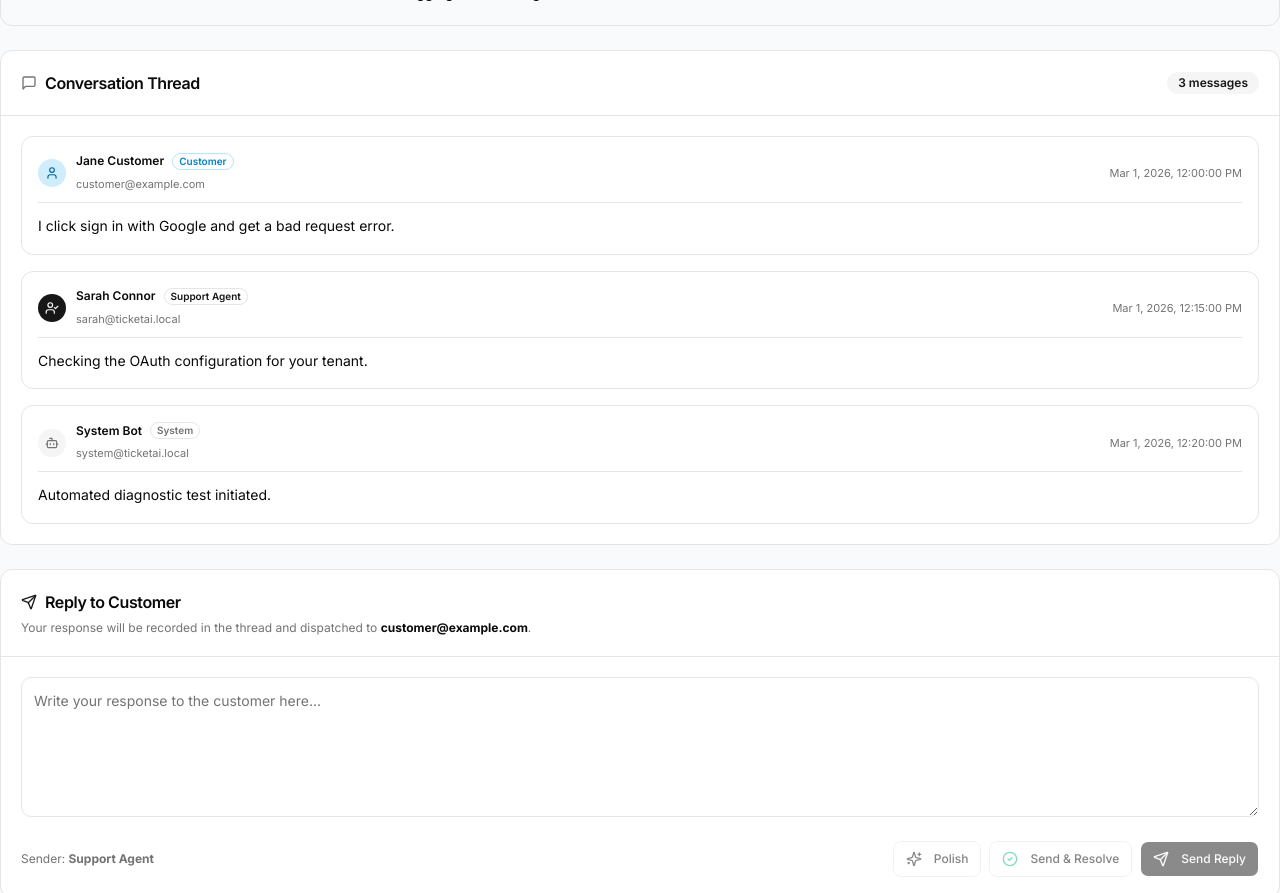
it: ConversationThread Component Tests › 3. Reply Composer & Interactions › displays error alert when sending reply fails and preserves draft
(page scrolled)
Type "My drafted answer" into the text box with placeholder "Write your response to the customer here...". click: coordinates (640, 747)
box: [21,677,1259,817]
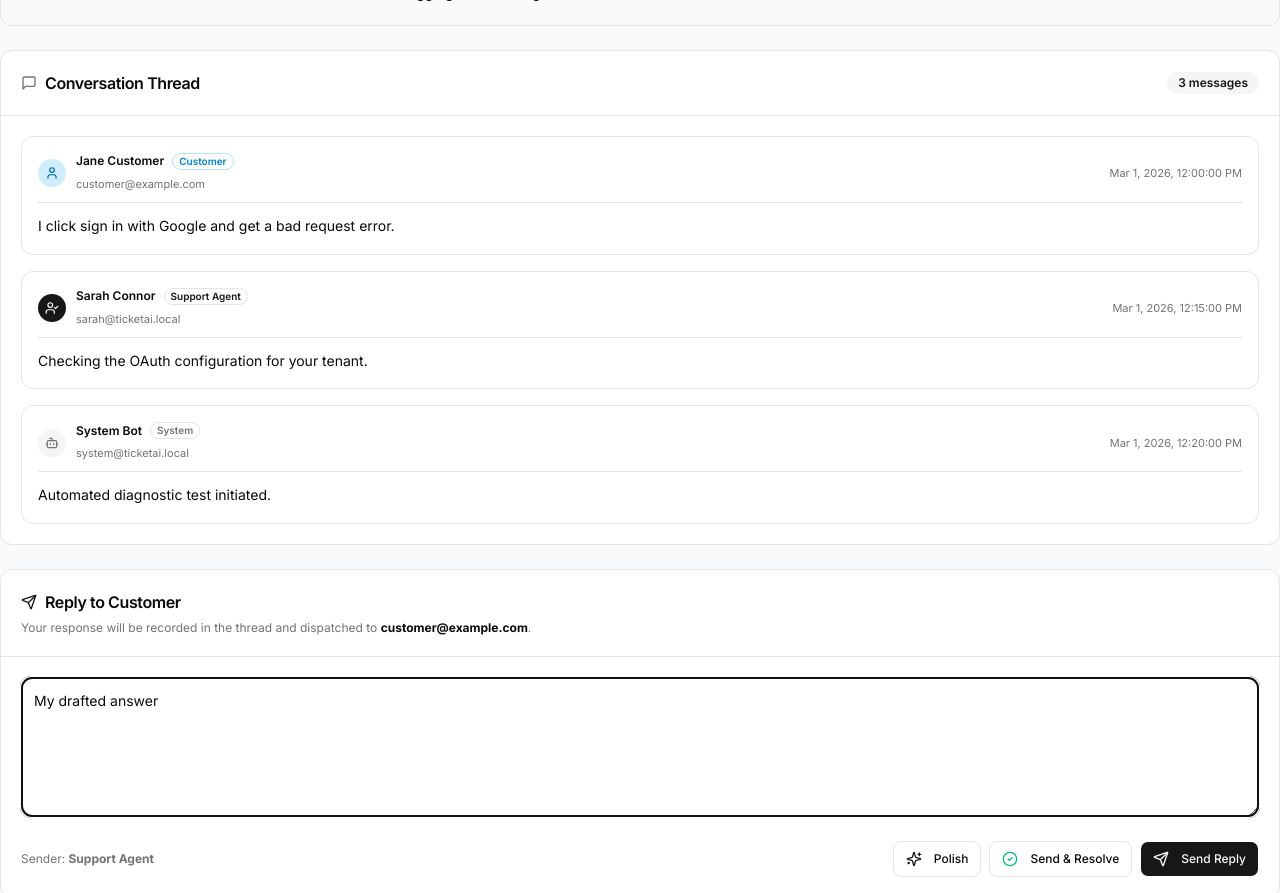
Click the button "Send Reply". click: coordinates (1200, 859)
box: [1140,841,1259,877]
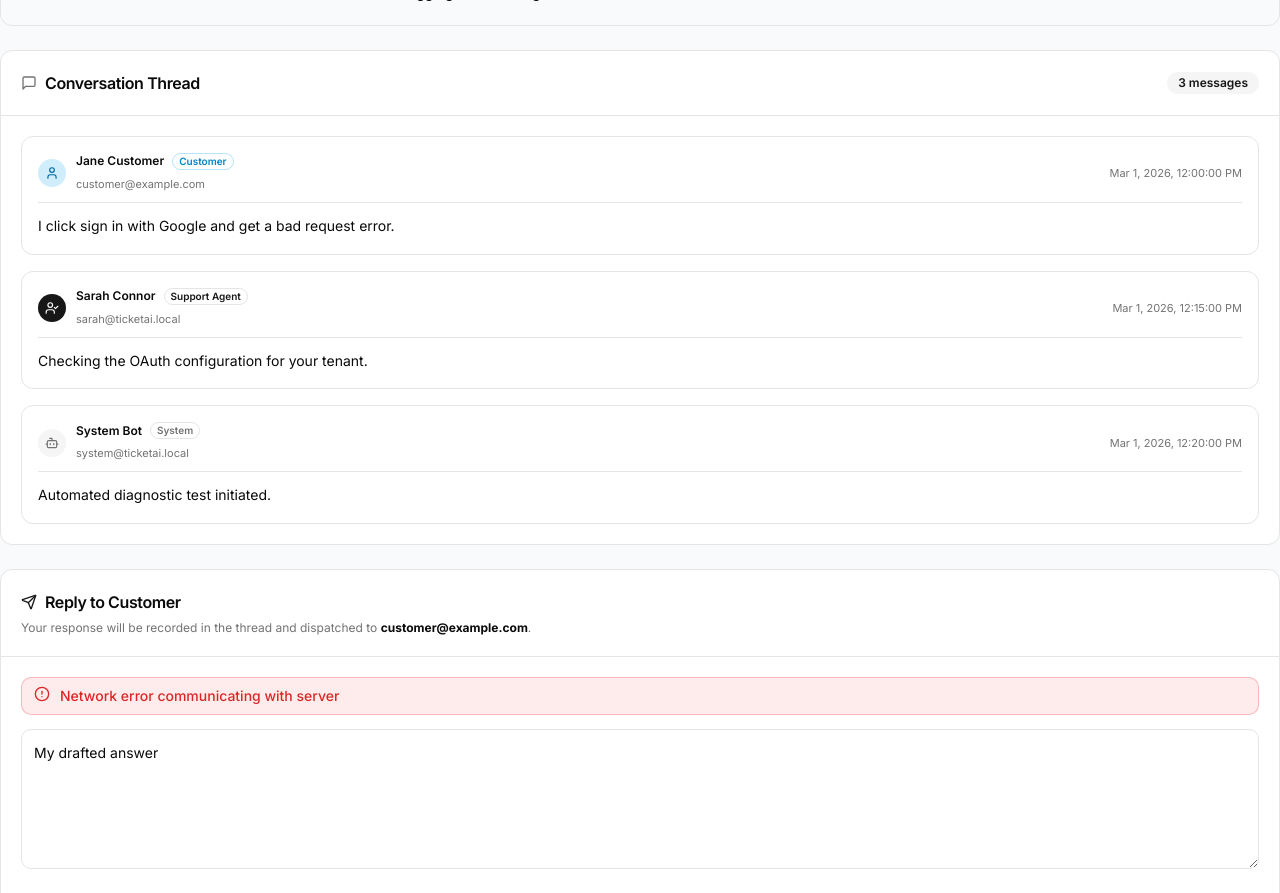
Check: the text "Network error communicating with server" is shown, box [60,687,339,704]
